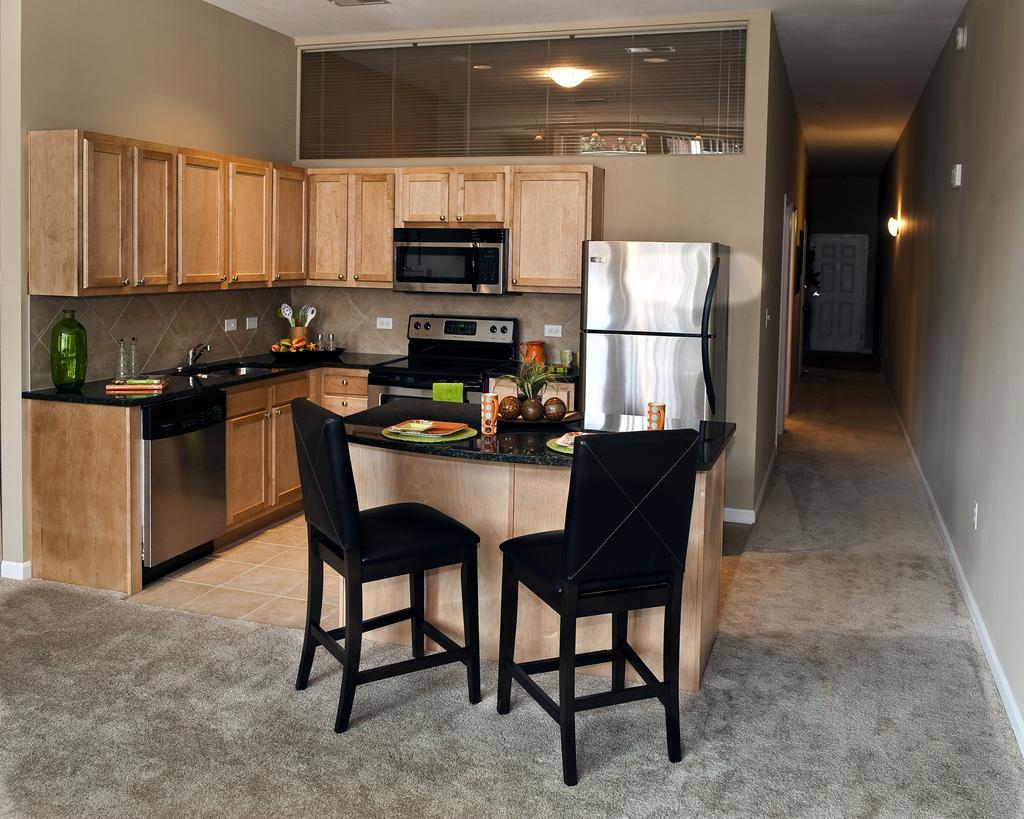cabinet_door: (510, 168, 582, 289), (81, 140, 129, 289), (132, 147, 174, 289), (180, 160, 227, 284), (228, 169, 270, 284), (308, 171, 353, 278), (351, 178, 393, 282), (274, 172, 308, 284), (226, 415, 264, 512), (272, 398, 298, 502), (402, 173, 450, 224), (456, 172, 498, 220), (327, 374, 363, 394)
handle: (700, 277, 721, 400), (274, 396, 288, 427), (347, 268, 363, 292), (257, 404, 271, 430), (230, 266, 242, 292), (435, 209, 449, 230), (214, 268, 228, 288), (122, 270, 132, 294), (274, 271, 284, 291), (339, 376, 351, 392), (138, 272, 148, 289), (340, 396, 350, 413), (510, 276, 520, 292)
